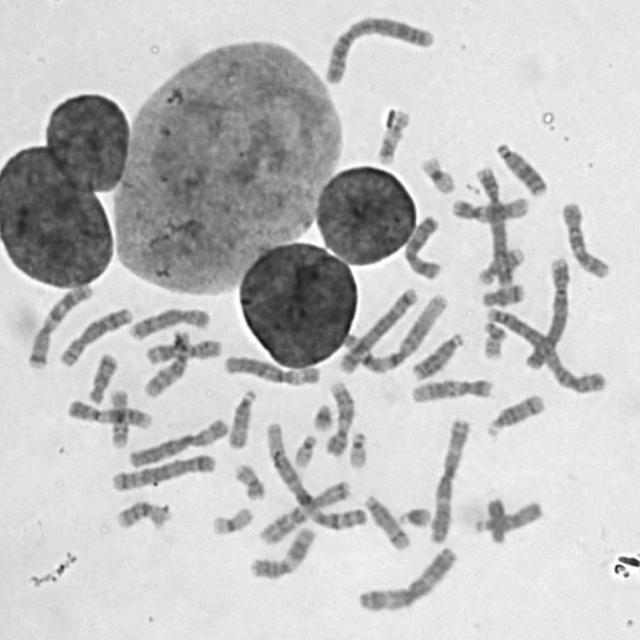A1: (261, 418, 368, 533), (335, 288, 452, 374)
A2: (481, 302, 609, 395), (318, 12, 437, 85)
A3: (353, 541, 461, 614), (426, 414, 472, 544)
B4: (521, 251, 573, 371), (471, 162, 515, 289)
B5: (335, 281, 420, 375), (108, 450, 218, 493)
C10: (558, 196, 613, 280), (141, 326, 194, 400)
C11: (246, 522, 318, 581), (143, 334, 223, 365)
C12: (406, 373, 496, 405), (447, 190, 533, 223)
C6: (125, 412, 232, 469), (221, 351, 324, 387)
C7: (256, 476, 354, 547), (24, 279, 96, 370)
C8: (55, 302, 134, 368), (125, 302, 213, 341)
C9: (63, 394, 155, 431), (322, 376, 357, 458)
D13: (493, 137, 550, 198), (408, 327, 466, 382)
D14: (482, 389, 547, 440), (361, 491, 412, 552)
D15: (470, 495, 544, 535), (224, 384, 259, 451)
E16: (112, 496, 174, 531), (105, 385, 131, 450)
E17: (373, 103, 412, 167), (474, 242, 528, 286)
E18: (84, 348, 120, 405), (477, 279, 528, 307)
F19: (417, 151, 458, 196), (207, 502, 255, 536)
F20: (230, 459, 268, 501), (480, 318, 507, 360)
G21: (395, 502, 434, 529), (308, 398, 336, 432)
G22: (290, 429, 320, 470), (345, 425, 370, 470)
X: (399, 211, 445, 281)
Y: (482, 494, 509, 546)
